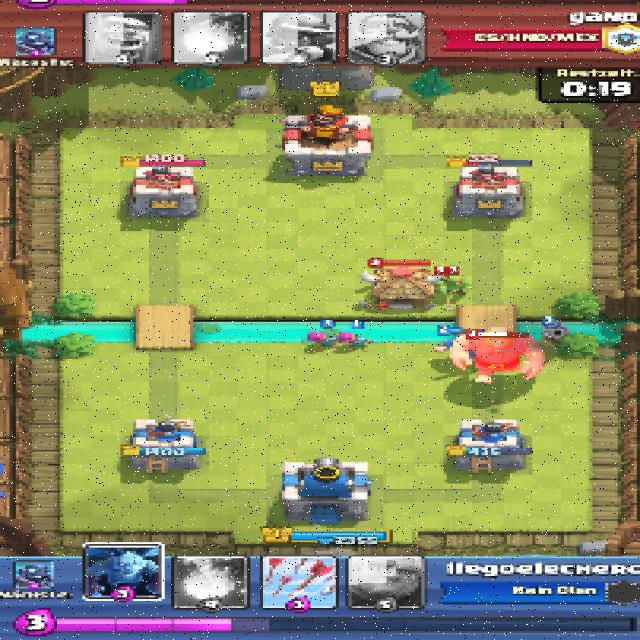Enemy-Giant: (445, 328, 546, 386)
Enemy-GoblinHut: (355, 267, 451, 312)
Enemy-SpearGoblin: (446, 276, 472, 300), (436, 280, 449, 295)
Player-Archer: (338, 332, 376, 350), (305, 330, 338, 350)
Player-Knight: (436, 331, 485, 357)
Player-Musketeer: (540, 317, 570, 343)
